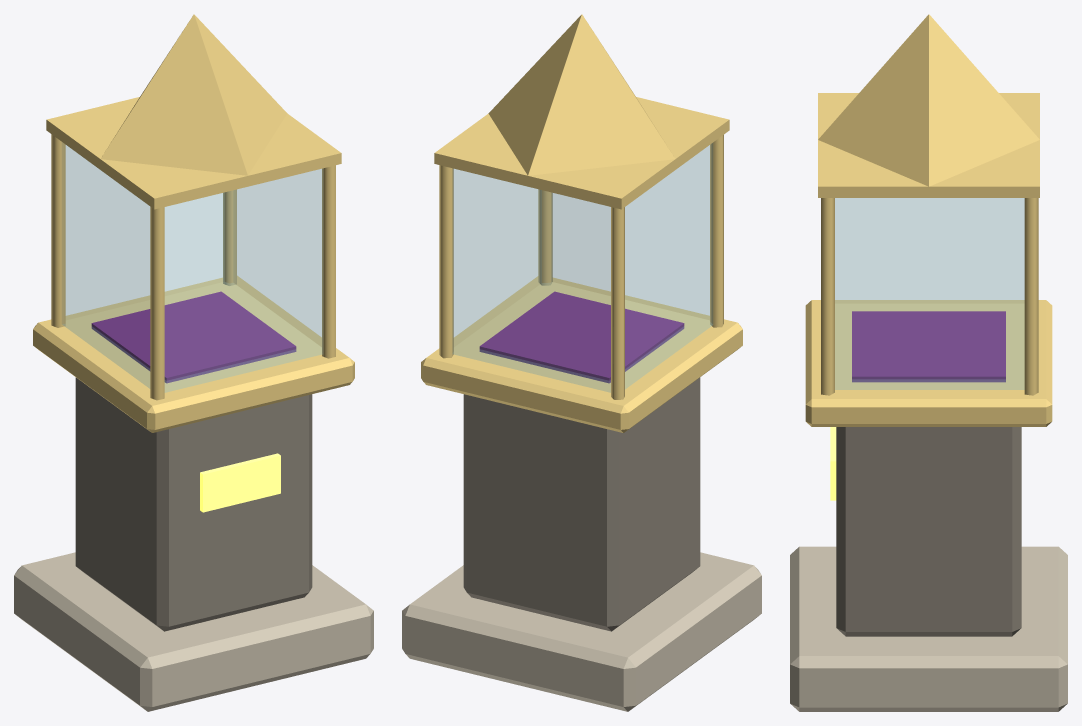
File: bb_reliquary.glb
The picture shows the model from 3 angles, left to right: view 1: azimuth 30°, elevation 25°; view 2: azimuth 150°, elevation 25°; view 3: azimuth 270°, elevation 25°; orthographic projection. The views are drawn at different scales.
Parts seen in each view (by area): view 1: bb_reliquary; view 2: bb_reliquary; view 3: bb_reliquary.
Part boxes in pixels (x1=…): bb_reliquary: x1=14, y1=14, x2=373, y2=711; bb_reliquary: x1=402, y1=14, x2=761, y2=711; bb_reliquary: x1=790, y1=14, x2=1067, y2=711.
Bounding box in the file's own units: 0.9 × 2.3 × 0.9.
